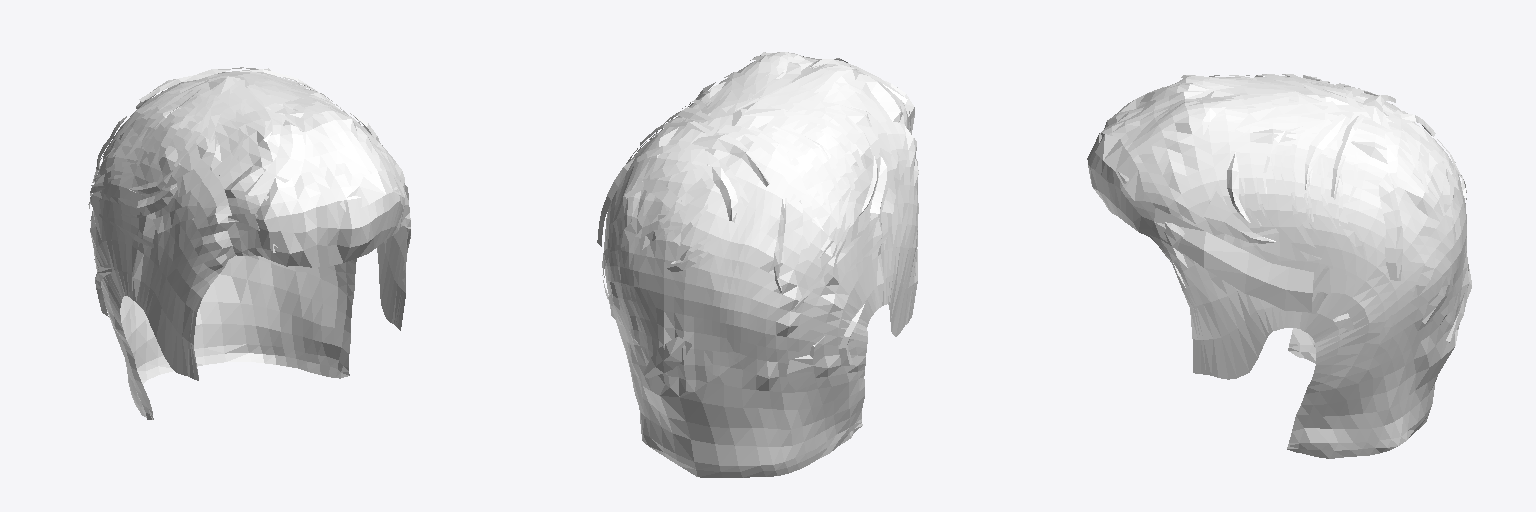
File: human5.obj
3 renders of one model, left to right at view 1: azimuth 30°, elevation 25°; view 2: azimuth 150°, elevation 25°; view 3: azimuth 270°, elevation 25°, orthographic.
Parts seen in each view (by area): view 1: human:mhair02; view 2: human:mhair02; view 3: human:mhair02.
Boxes of the visible parts, x1,y1,x2,y2 form: human:mhair02: [88, 67, 410, 419]; human:mhair02: [597, 52, 918, 477]; human:mhair02: [1087, 74, 1471, 458].
Size of the model in its own units: 1.69 by 2.18 by 2.28.